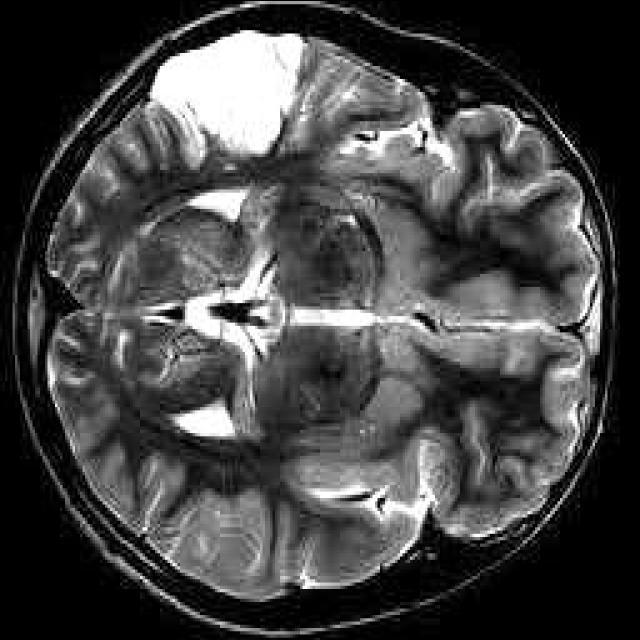tumor: (150, 29, 318, 159)
